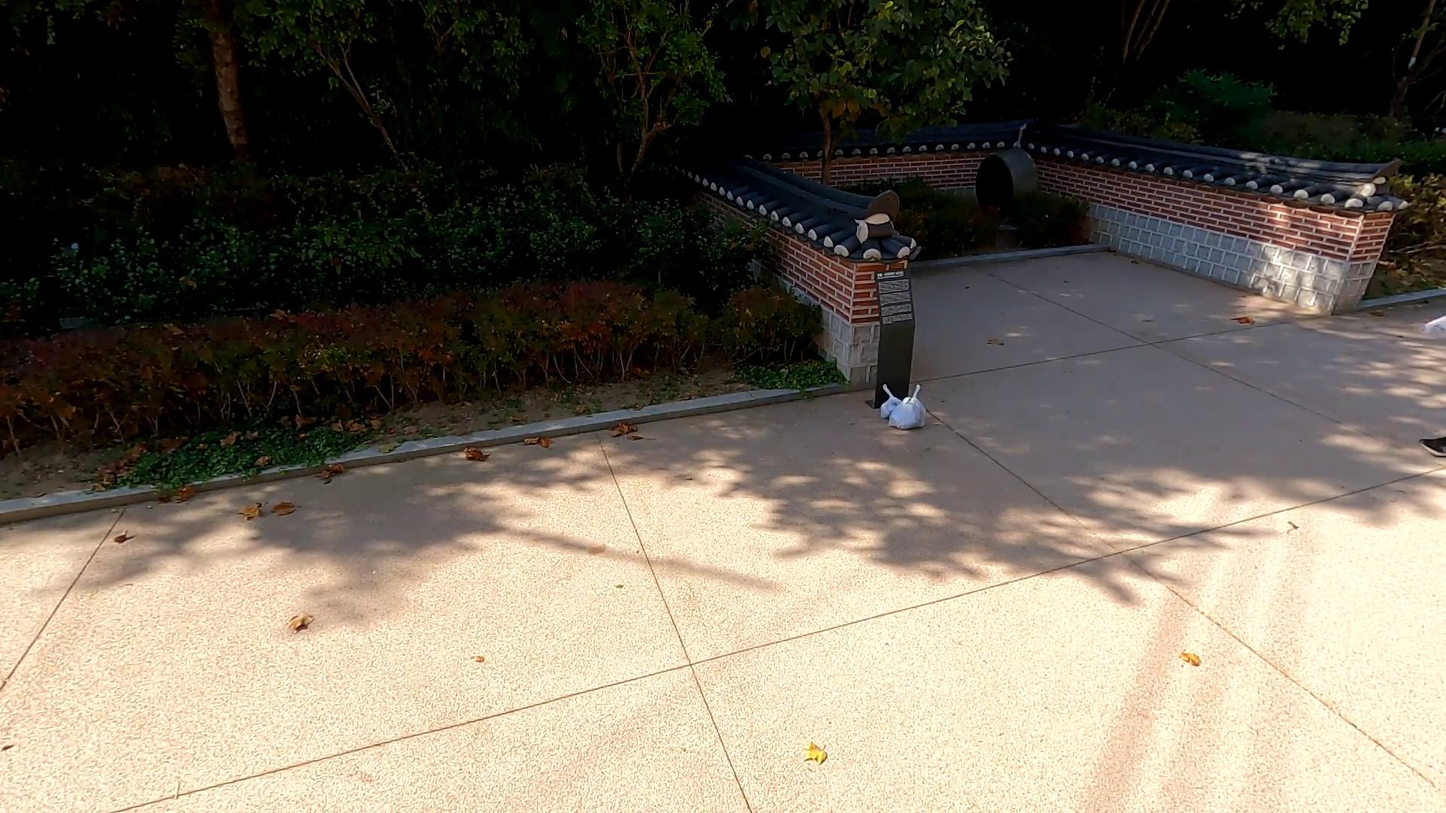trash: (889, 384, 932, 434), (876, 383, 913, 420)
